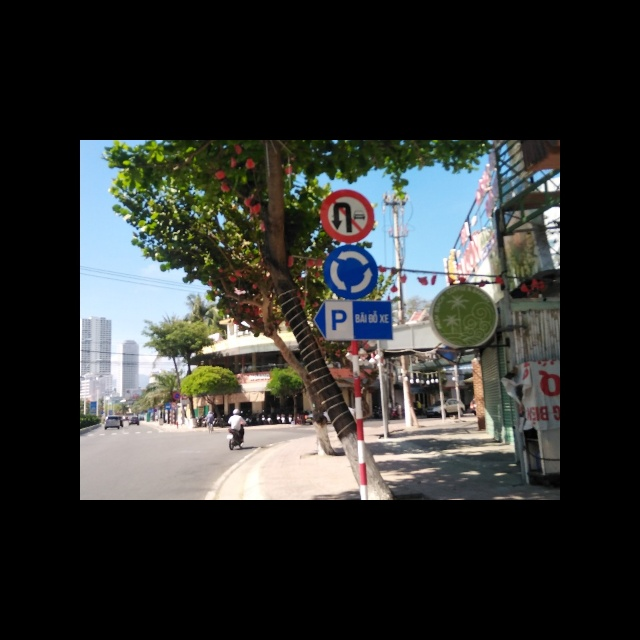Cấm xe ô tô quay đầu: (320, 190, 374, 242)
Nơi giao nhau chạy theo vòng xuyến: (323, 246, 378, 297)
Nơi đỗ xe: (310, 300, 394, 340)
